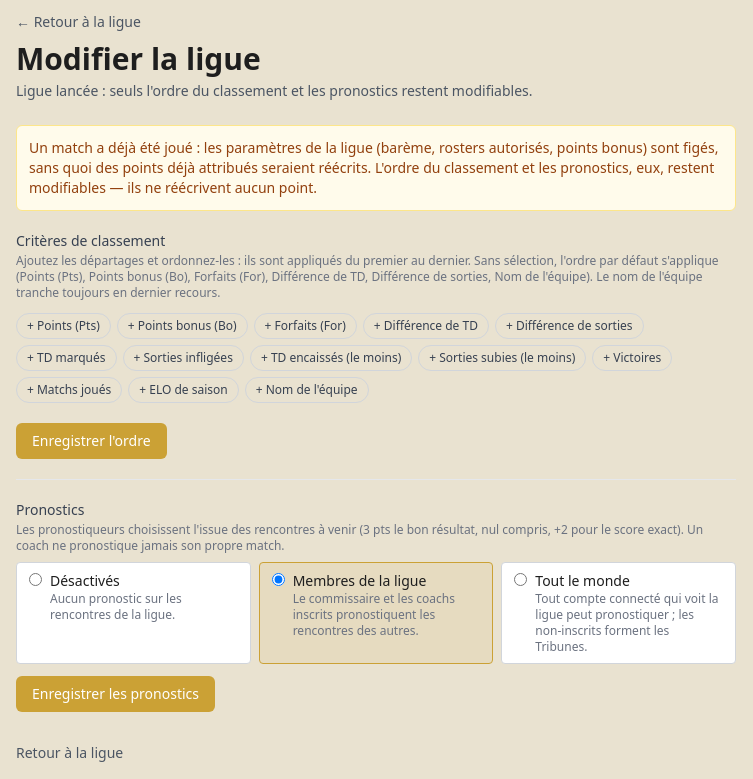
Test case: EditLeaguePage › ligue verrouillée : portée des pronostics › un refus serveur est affiché, pas avalé
Expected: the button with test id "locked-predictions-submit" is shown, top-left (16, 676), bottom-right (215, 712)
Click the radio button with test id "league-predictions-scope-open" at [521, 580], box top-left (514, 573), bottom-right (527, 586)
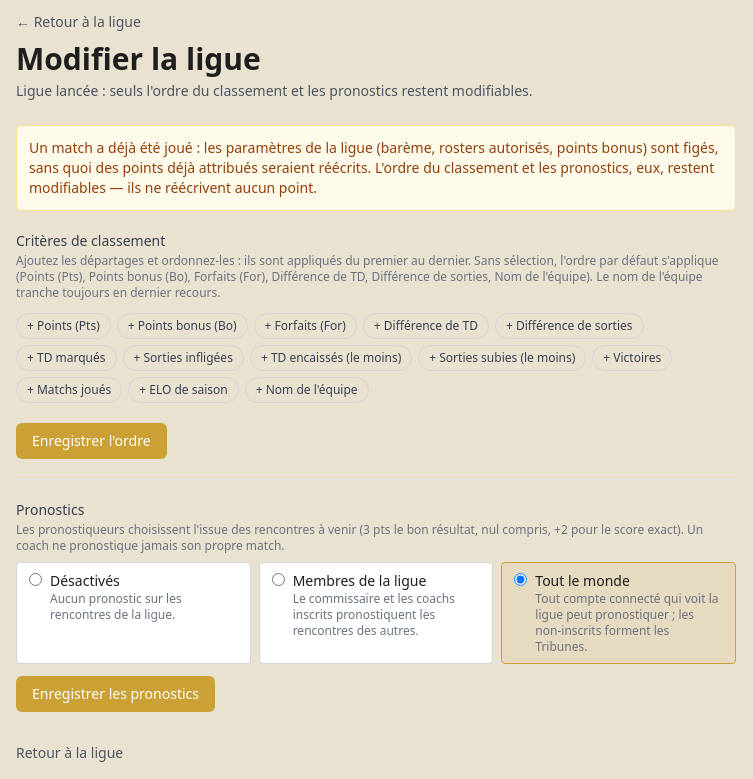
Click the button with test id "locked-predictions-submit" at [116, 694], box top-left (16, 676), bottom-right (215, 712)
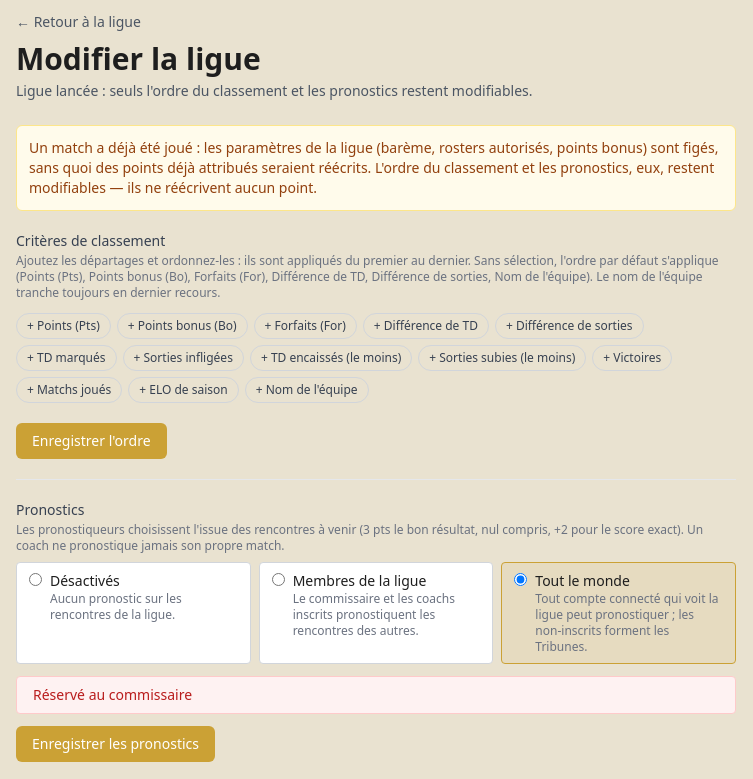
Expected: the text "Réservé au commissaire" is shown, top-left (16, 676), bottom-right (736, 714)
